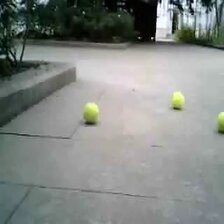tennis: (82, 103, 99, 123), (171, 91, 185, 108), (216, 109, 224, 135)
